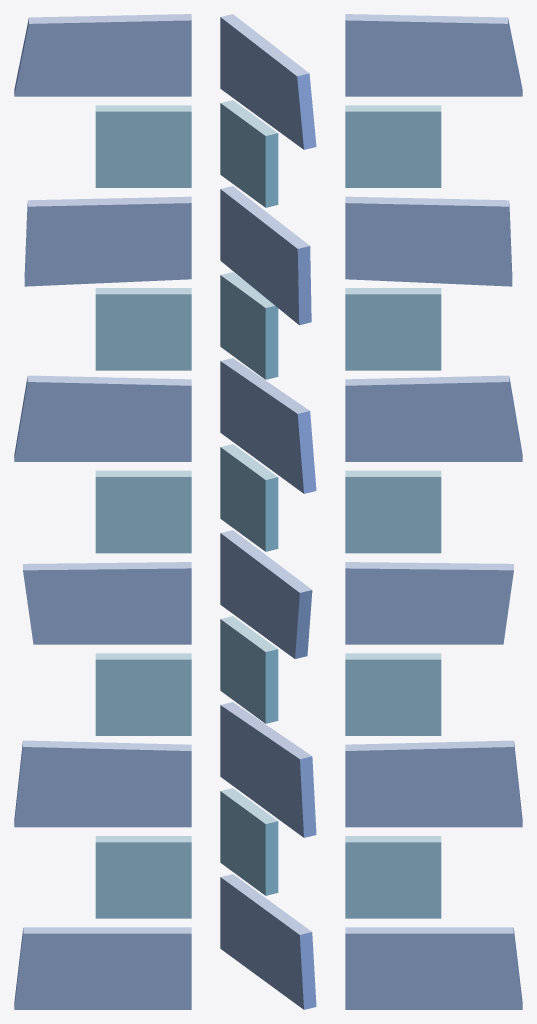
The model's file is wall_corner_01.fbx.
The picture shows the model from 3 angles, left to right: view 1: azimuth 90°, elevation 25°; view 2: azimuth 210°, elevation 25°; view 3: azimuth 270°, elevation 25°; orthographic projection. The views are drawn at different scales.
Visible parts, largest first — view 1: wall_corner_01; view 2: wall_corner_01; view 3: wall_corner_01.
Boxes of the visible parts, left/top/right/bottom form: wall_corner_01: left=14, top=14, right=191, bottom=1009; wall_corner_01: left=220, top=14, right=316, bottom=1009; wall_corner_01: left=345, top=14, right=522, bottom=1009.
Bounding box in the file's own units: 1.93 × 138 × 22.47.
Materials: 1 (1 with a texture image).
